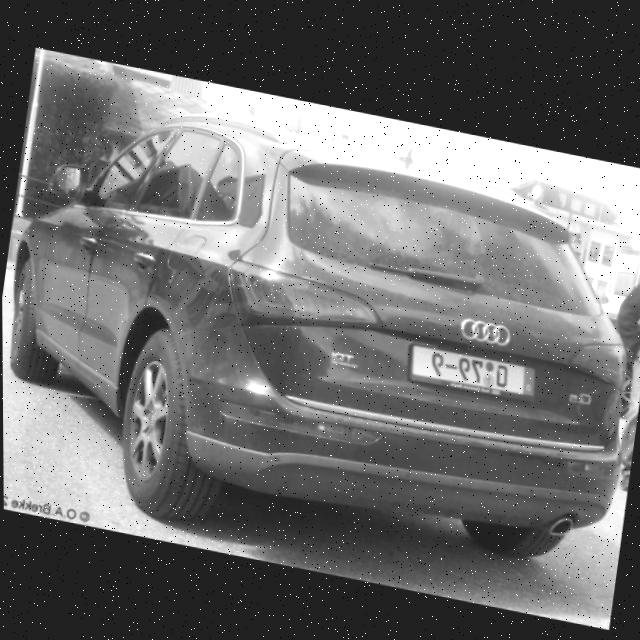license-plates: (410, 345, 536, 398)
